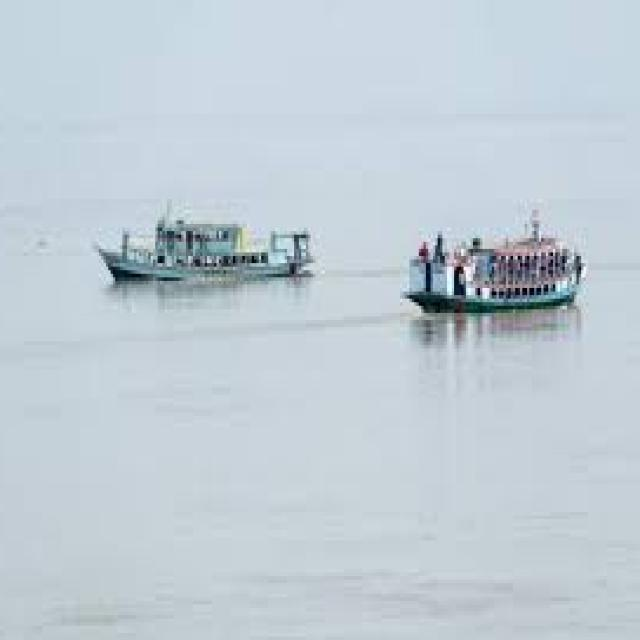houseboat: (406, 205, 602, 323), (107, 192, 310, 284)
